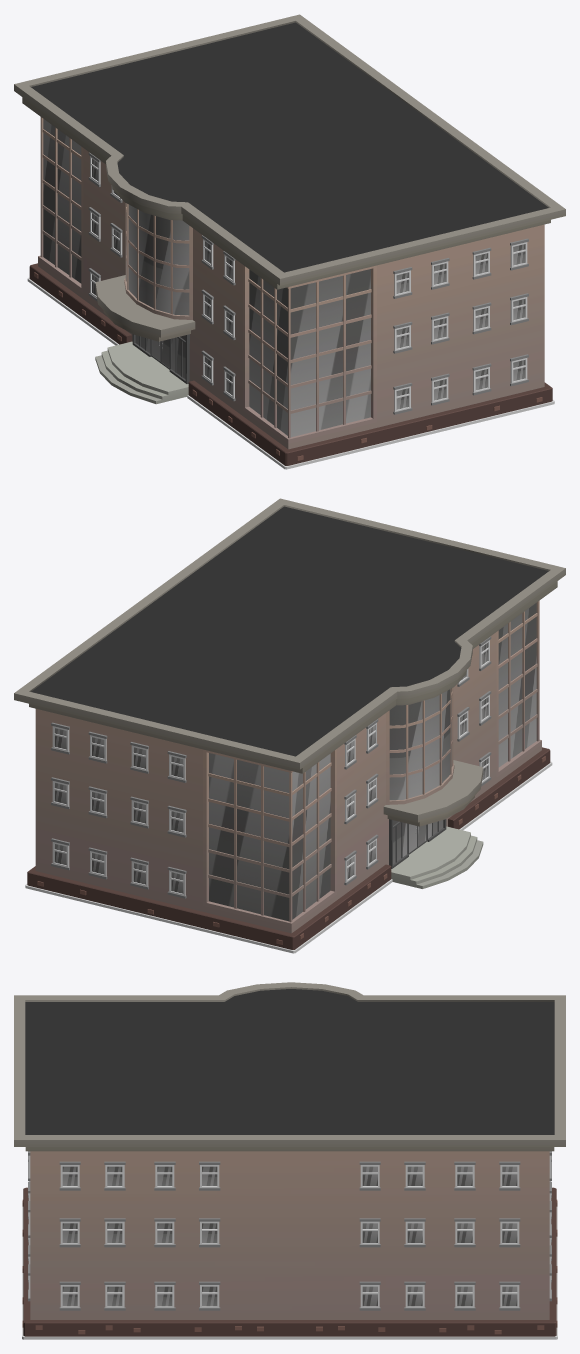
The model's file is Building_23_E.fbx.
3 views of the same model, one above another, from view 1: azimuth 30°, elevation 25°; view 2: azimuth 150°, elevation 25°; view 3: azimuth 270°, elevation 25° (orthographic). The views are drawn at different scales.
Visible parts, largest first — view 1: Building_23_E; view 2: Building_23_E; view 3: Building_23_E.
Part boxes in pixels (left/top/right/bottom): Building_23_E: left=14, top=14, right=565, bottom=469; Building_23_E: left=14, top=498, right=565, bottom=953; Building_23_E: left=14, top=982, right=565, bottom=1339.
Size of the model in its own units: 2073 by 1207 by 2972.
